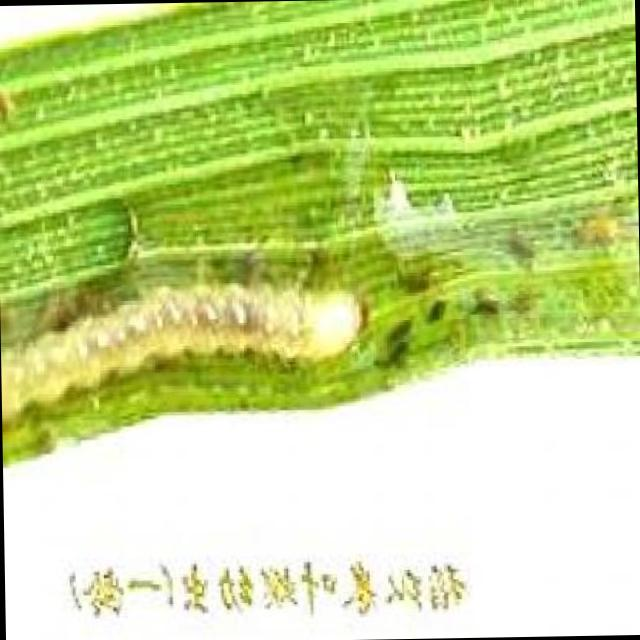leaf-folder: (29, 232, 378, 484)
